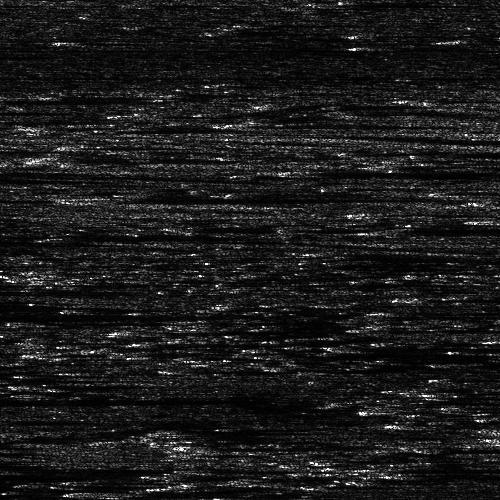object: (281, 459, 468, 480), (0, 151, 144, 166), (204, 348, 329, 359), (252, 165, 357, 176), (3, 229, 118, 238), (365, 291, 470, 300), (192, 121, 265, 128), (62, 194, 135, 201), (0, 93, 42, 102), (371, 227, 444, 232), (470, 417, 500, 428), (148, 226, 201, 231), (457, 216, 500, 221), (289, 0, 352, 3), (66, 489, 97, 494), (0, 117, 21, 122), (0, 418, 22, 421)
shadow: (267, 348, 487, 359), (375, 459, 488, 480), (61, 229, 324, 238), (61, 151, 218, 166), (305, 165, 500, 176), (0, 309, 228, 318), (99, 194, 367, 201), (0, 235, 231, 242), (1, 93, 153, 102), (229, 121, 394, 128), (0, 463, 161, 468), (0, 398, 258, 401), (418, 291, 500, 300), (82, 489, 183, 494), (408, 227, 500, 232), (0, 117, 90, 122), (321, 0, 438, 3), (175, 226, 229, 231), (0, 287, 51, 292), (0, 52, 45, 57), (0, 169, 67, 172), (0, 418, 46, 421)
